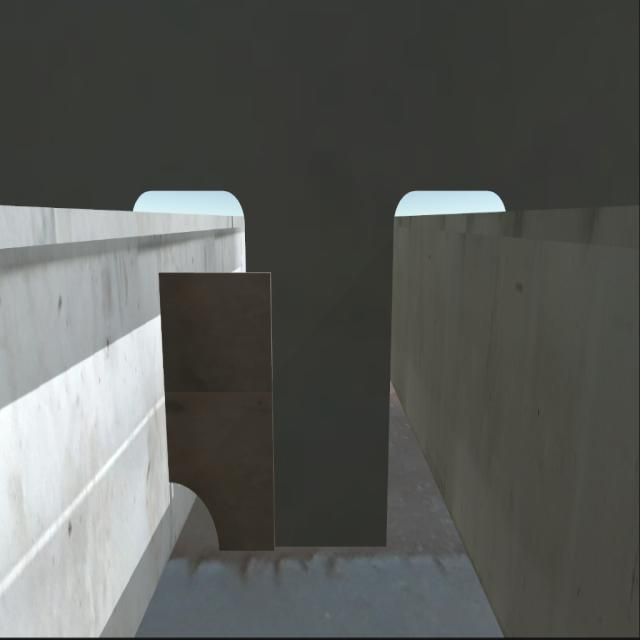fillet_hole: (169, 478, 221, 554)
fillet_yong_jeop_jang: (204, 526, 392, 566)
longi_yong_jeop_jang: (157, 263, 175, 482)
plate_CP01: (163, 273, 274, 553)
